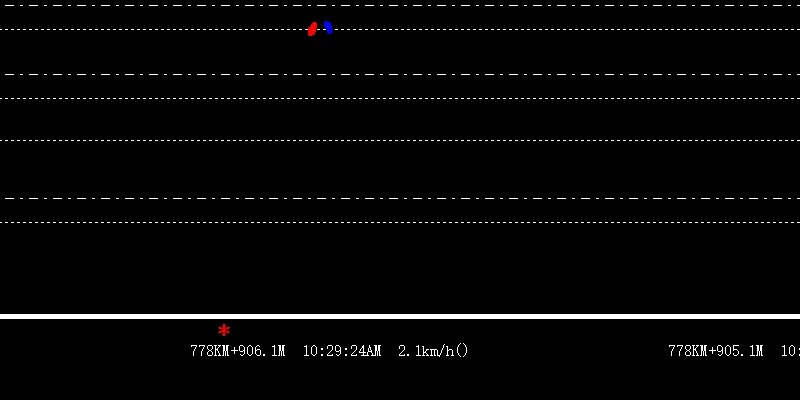face_1: (307, 21, 317, 38), (324, 20, 332, 35)
star: (216, 321, 230, 340)
